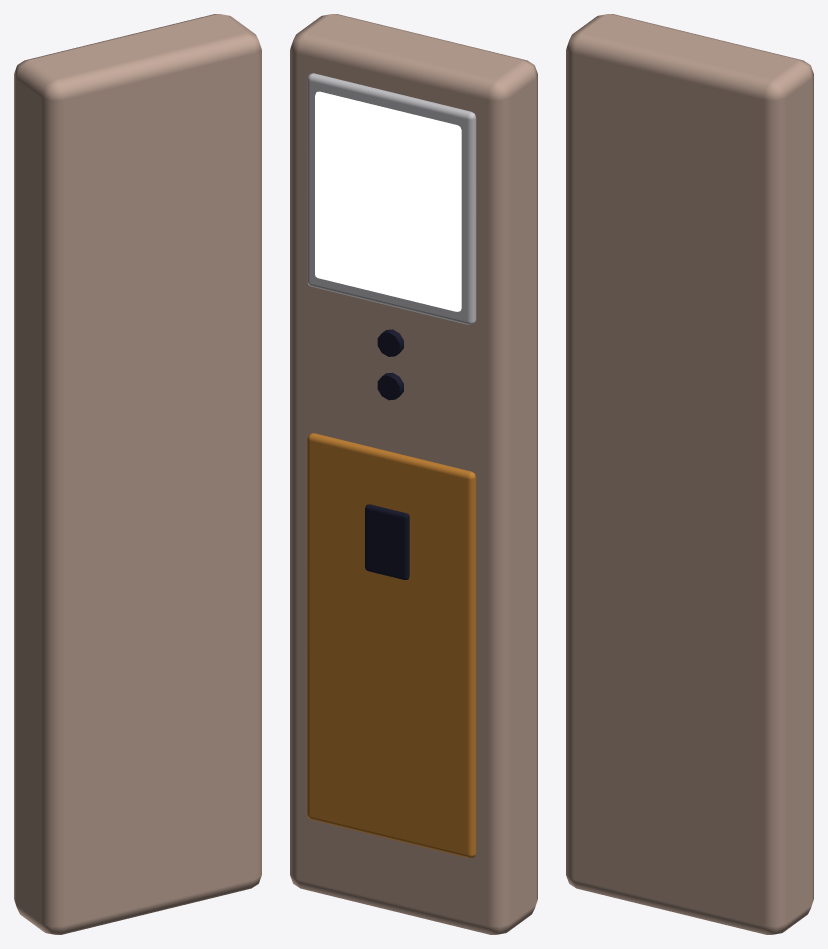
Rendered from prop.props_walls.walls_qb_column.glb.
3 views of the same model, side by side, from view 1: azimuth 30°, elevation 25°; view 2: azimuth 150°, elevation 25°; view 3: azimuth 330°, elevation 25° (orthographic).
Parts seen in each view (by area): view 1: prop.props_walls.walls_qb_column; view 2: prop.props_walls.walls_qb_column; view 3: prop.props_walls.walls_qb_column.
Part boxes in pixels (x1,y1,x2,y2): prop.props_walls.walls_qb_column: (14, 14, 261, 934); prop.props_walls.walls_qb_column: (290, 14, 537, 934); prop.props_walls.walls_qb_column: (566, 14, 813, 934).
Bounding box in the file's own units: 0.3 × 1.12 × 0.118.
